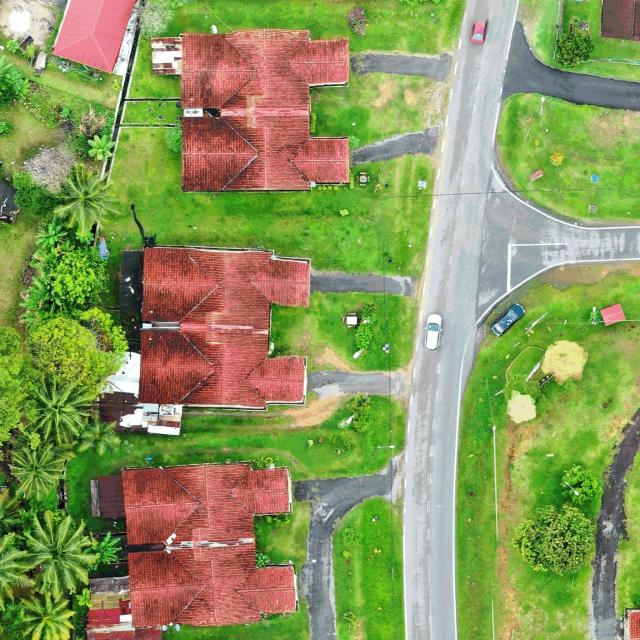Tree: (26, 306, 130, 394), (13, 509, 96, 599), (516, 502, 597, 575), (24, 373, 98, 447), (50, 164, 120, 239), (49, 241, 111, 310), (7, 444, 66, 500), (19, 590, 76, 640), (19, 270, 61, 318), (79, 412, 122, 457), (559, 462, 601, 506), (552, 32, 594, 70), (33, 216, 69, 252), (91, 530, 124, 567), (86, 133, 116, 162), (164, 126, 183, 154)
